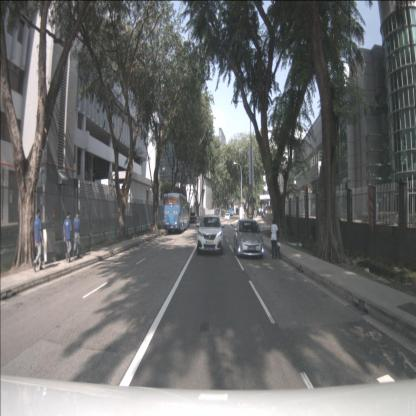human-pedestrian-adult: (32, 209, 44, 272), (62, 210, 73, 262), (73, 210, 81, 259), (270, 218, 279, 260)
vehicle-bicycle: (272, 232, 280, 260)
vehicle-bus-rigid: (163, 193, 190, 234), (229, 207, 234, 216)
vehicle-car: (196, 214, 224, 256), (234, 219, 264, 258), (188, 212, 200, 223), (224, 213, 230, 221)
